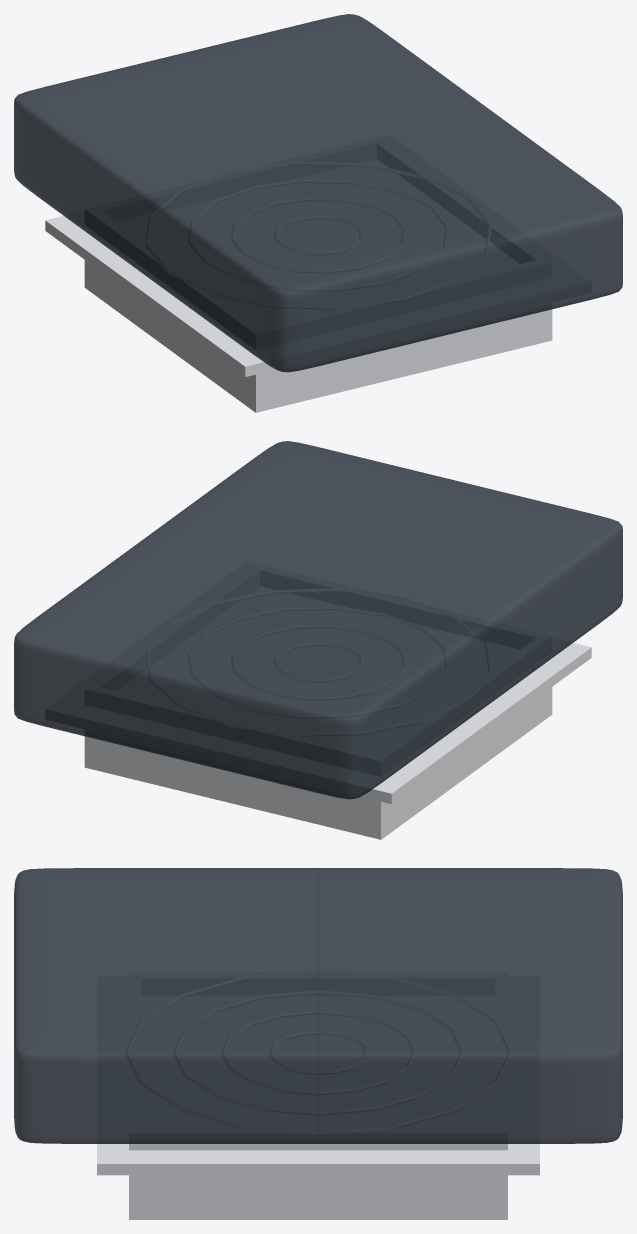
The model's file is roof_fan_maxxair_7500k.glb.
3 renders of one model, top to bottom at view 1: azimuth 30°, elevation 25°; view 2: azimuth 150°, elevation 25°; view 3: azimuth 270°, elevation 25°, orthographic. The views are drawn at different scales.
Parts seen in each view (by area): view 1: lid, roof_fan_maxxair_7500k; view 2: lid, roof_fan_maxxair_7500k; view 3: lid, roof_fan_maxxair_7500k.
Boxes of the visible parts, x1,y1,x2,y2 form: lid: (14, 14, 622, 372); roof_fan_maxxair_7500k: (45, 136, 589, 412); lid: (14, 441, 622, 799); roof_fan_maxxair_7500k: (46, 563, 591, 839); lid: (14, 868, 622, 1143); roof_fan_maxxair_7500k: (97, 970, 539, 1219).
Bounding box in the file's own units: 0.4191 × 0.187 × 0.5715.
